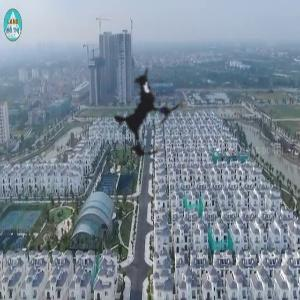drone: (77, 43, 221, 187)
